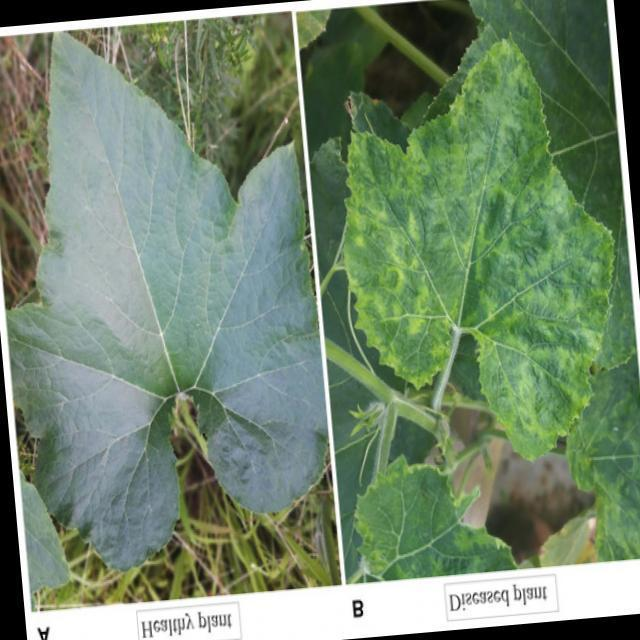Mosaic Virus: (350, 75, 607, 458), (358, 472, 480, 582), (568, 374, 640, 554)
